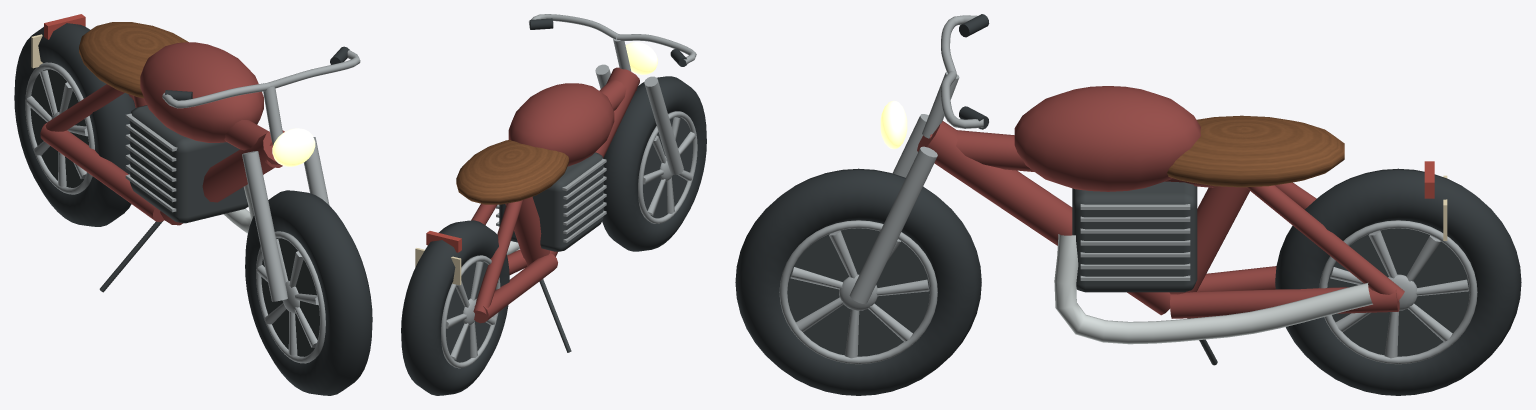
The model's file is veh_moto_cafe_racer-2bf5bd133c02.glb.
3 views of the same model, side by side, from view 1: azimuth 30°, elevation 25°; view 2: azimuth 150°, elevation 25°; view 3: azimuth 270°, elevation 25° (orthographic). The views are drawn at different scales.
Visible parts, largest first — view 1: surface_rubber (×3), surface_#904844, surface_steel (×4), surface_graphite (×3), surface_walnut, surface_lit, surface_chrome, surface_red; view 2: surface_rubber (×3), surface_#904844, surface_steel (×4), surface_graphite (×3), surface_walnut, surface_lit, surface_red, surface_ivory; view 3: surface_rubber (×3), surface_#904844, surface_graphite (×3), surface_steel (×4), surface_walnut, surface_chrome, surface_lit.
Part boxes in pixels (x1,y1,x2,y2): surface_rubber (×3): (14, 23, 372, 395); surface_#904844: (40, 42, 284, 225); surface_steel (×4): (25, 50, 360, 363); surface_graphite (×3): (30, 65, 322, 356); surface_walnut: (79, 22, 188, 98); surface_lit: (272, 128, 315, 166); surface_chrome: (223, 184, 254, 233); surface_red: (44, 14, 85, 39); surface_rubber (×3): (401, 18, 706, 395); surface_#904844: (471, 67, 639, 323); surface_steel (×4): (441, 14, 697, 368); surface_graphite (×3): (443, 113, 692, 362); surface_walnut: (456, 140, 568, 204); surface_lit: (625, 42, 657, 74); surface_red: (426, 231, 461, 252); surface_ivory: (415, 248, 461, 285); surface_rubber (×3): (735, 14, 1521, 395); surface_#904844: (917, 86, 1404, 318); surface_graphite (×3): (787, 181, 1469, 365); surface_steel (×4): (779, 15, 1477, 364); surface_walnut: (1167, 115, 1344, 187); surface_chrome: (1054, 234, 1372, 344); surface_lit: (880, 100, 907, 149).
Bounding box in the file's own units: 0.6566 × 0.9354 × 2.01.
9 materials, 1 textured.
